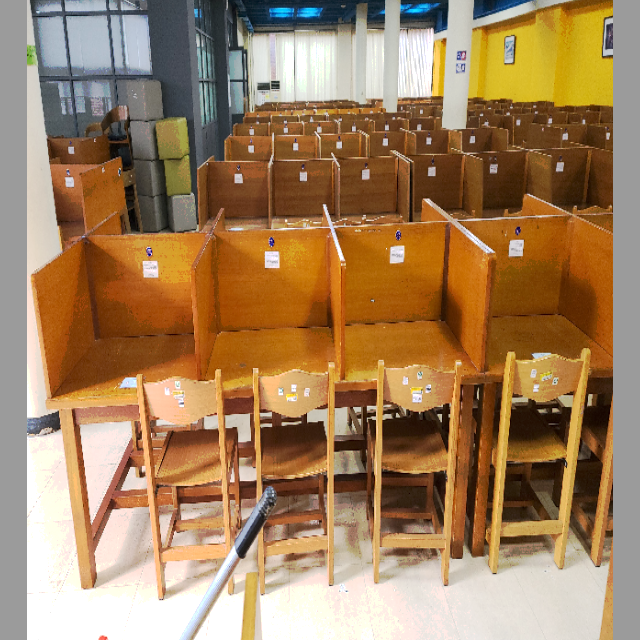empty: (35, 248, 195, 466), (201, 237, 348, 467), (352, 238, 484, 467)
